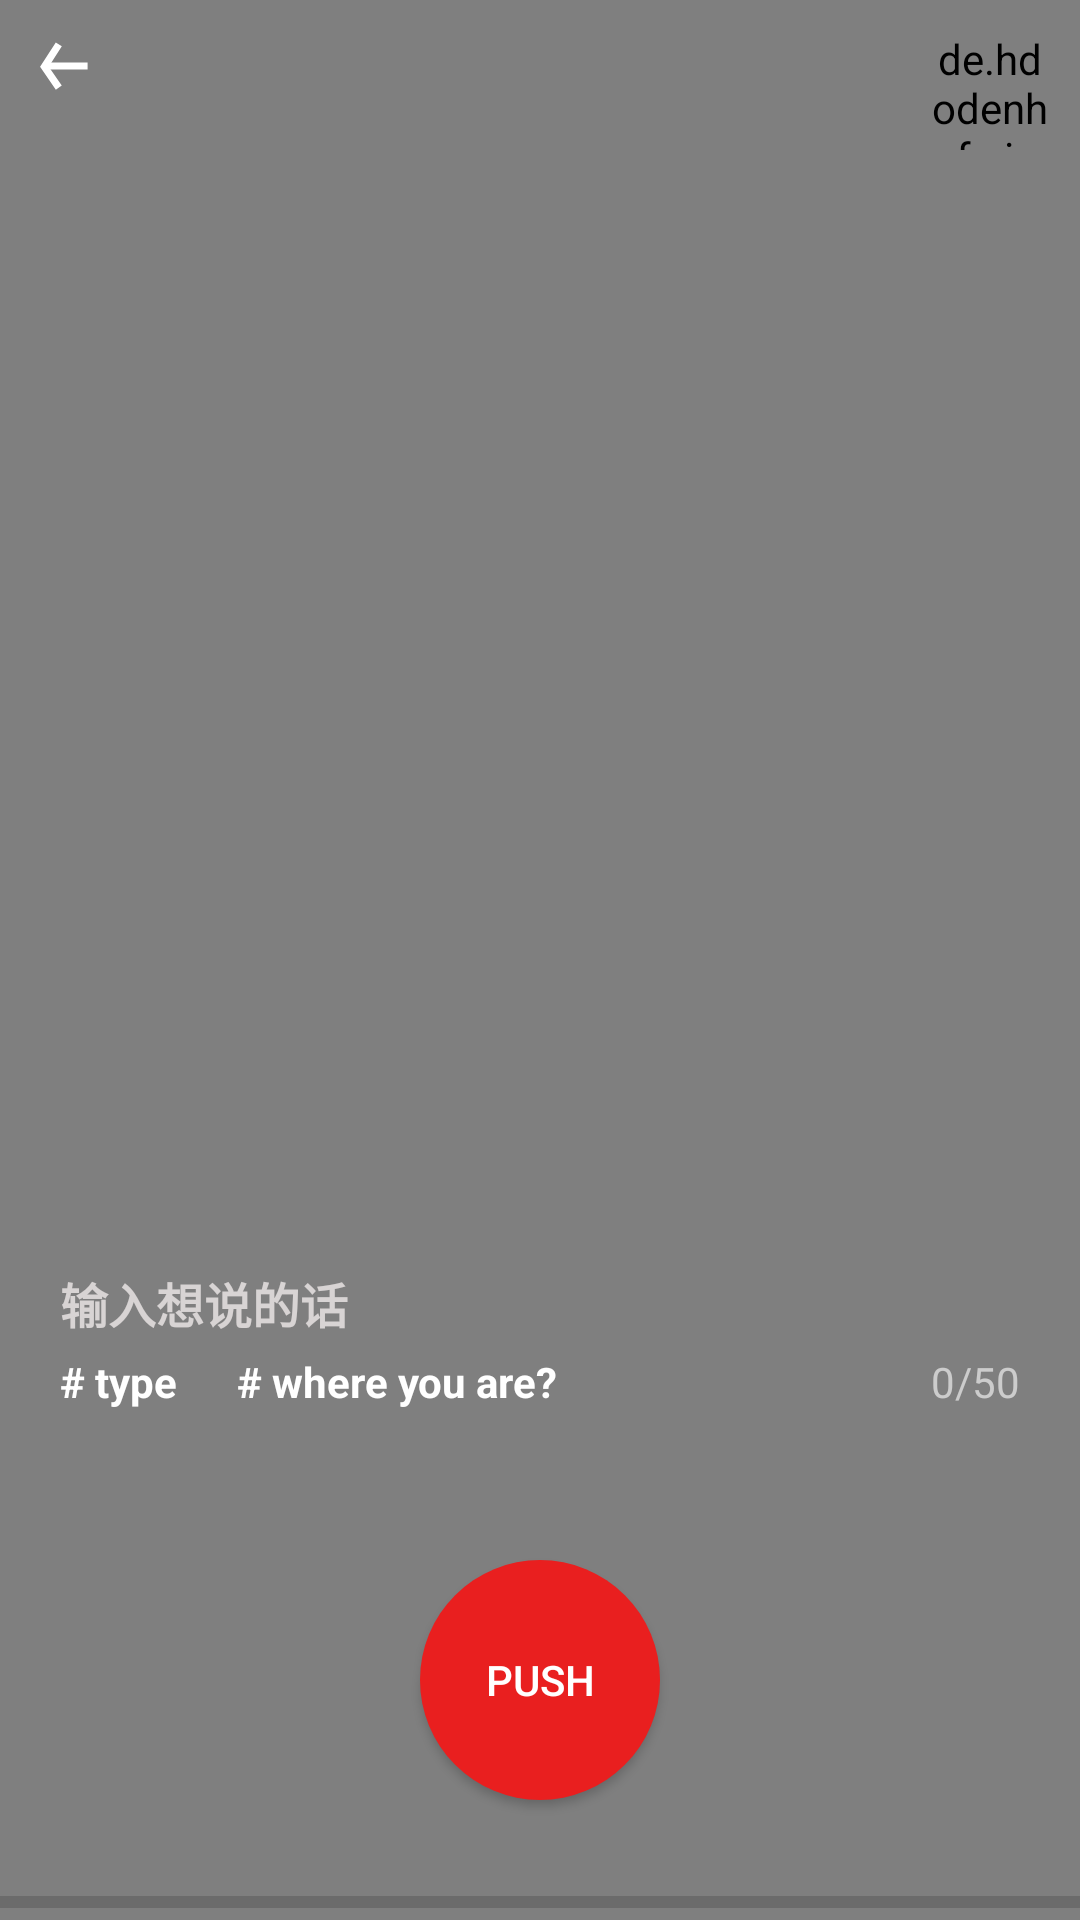

Named icons in this screenshot (1080 × 1920) and their bounding boxes, (x1,y1,x2,y2):
back: (40,43,88,90)
